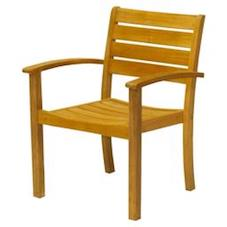chair: (16, 2, 210, 222)
